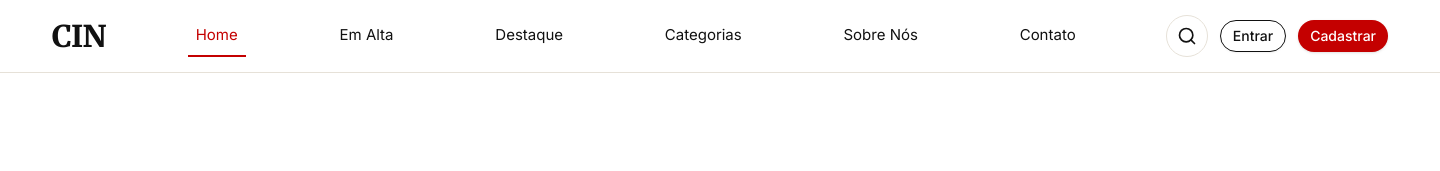
Scenario: Header › shows search bar when search button is clicked
The width and height of the screenshot is (1440, 171).
Click the button named "Abrir busca". click: (1187, 36)
box: [1166, 15, 1208, 57]
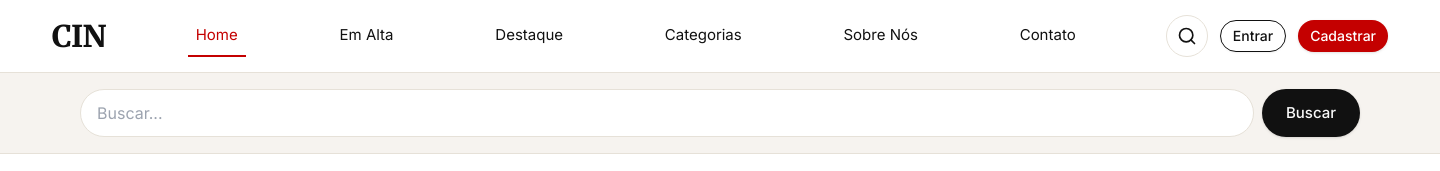
Now the search field is shown, box [80, 89, 1254, 137]
